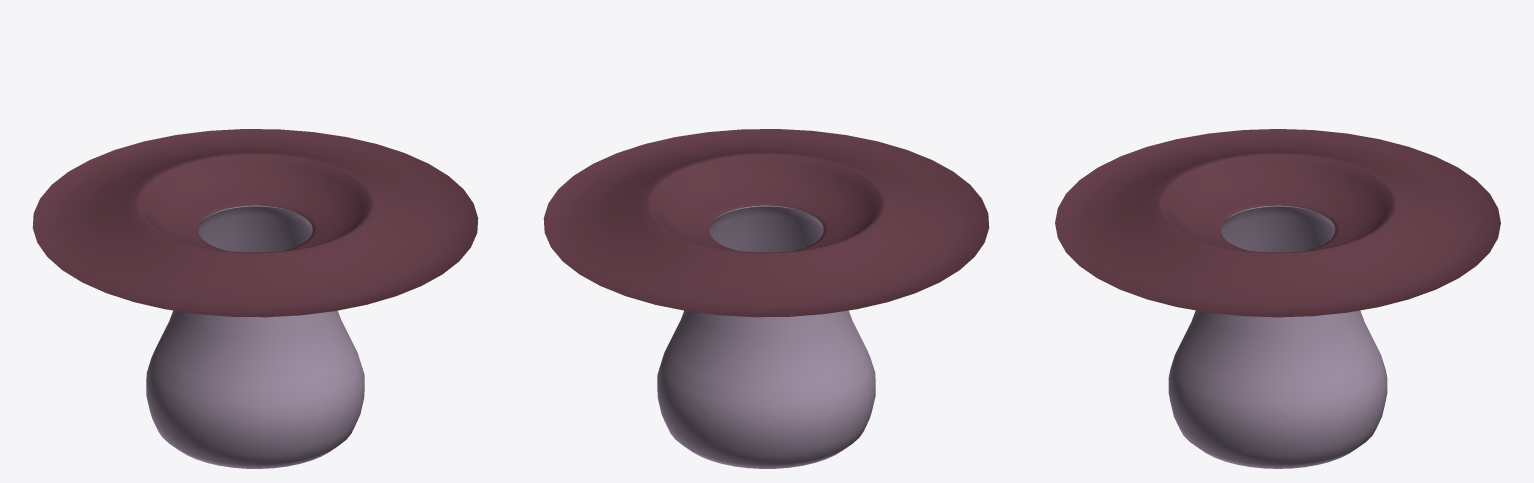
File: M_Singleshroom-01.fbx
3 views of the same model, side by side, from view 1: azimuth 30°, elevation 25°; view 2: azimuth 150°, elevation 25°; view 3: azimuth 270°, elevation 25° (orthographic).
Parts seen in each view (by area): view 1: mushy; view 2: mushy; view 3: mushy.
Boxes of the visible parts, x1,y1,x2,y2 form: mushy: [32, 129, 478, 468]; mushy: [543, 129, 989, 468]; mushy: [1055, 129, 1500, 468].
Size of the model in its own units: 2.29 by 2.01 by 2.29.
